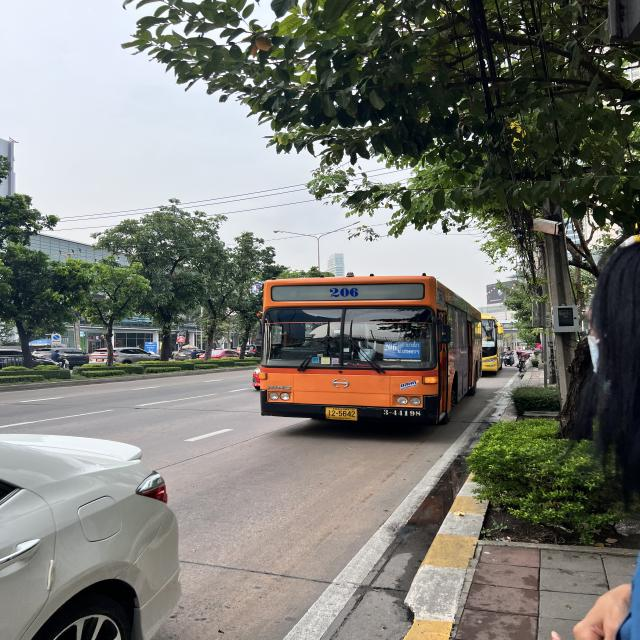BMTA-bus: (258, 275, 482, 426)
Bus-Line-Number: (324, 284, 363, 300)
Destination-Sign-Normal: (382, 340, 422, 360)
